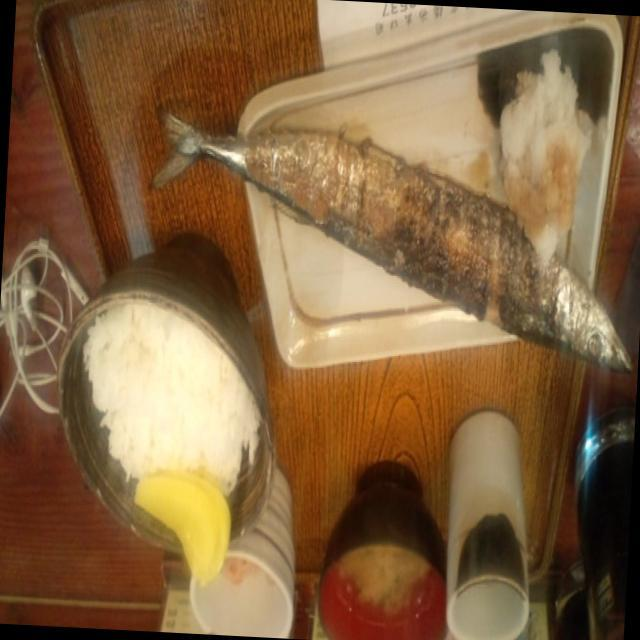Rice: (62, 298, 266, 498)
